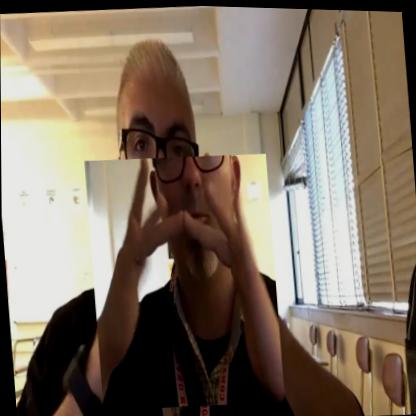Internet: (84, 148, 284, 414)
